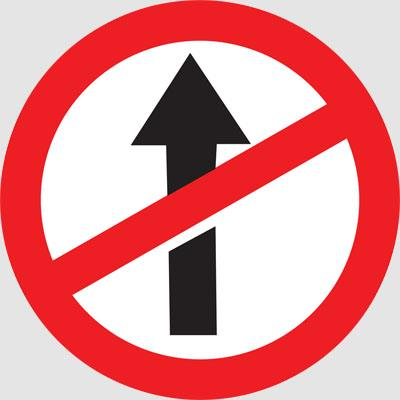Straight Prohibitor No Entry: (11, 9, 389, 378)
